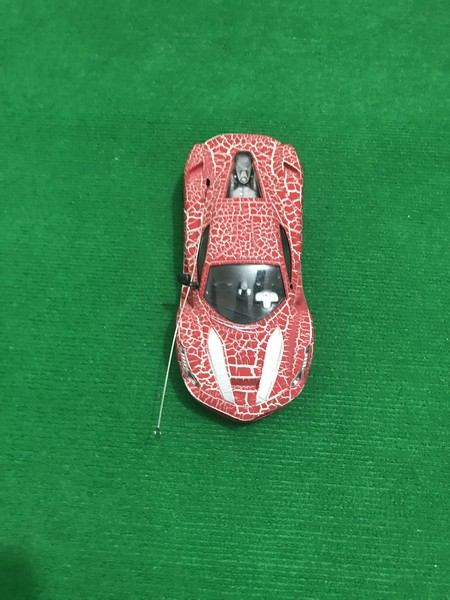RC: (169, 131, 316, 424)
